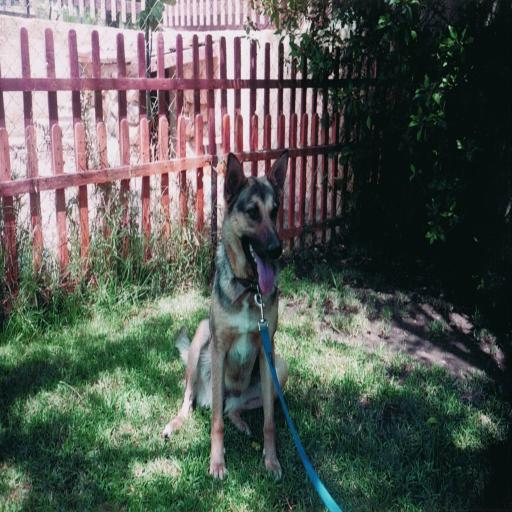dog_face: (225, 151, 289, 296)
